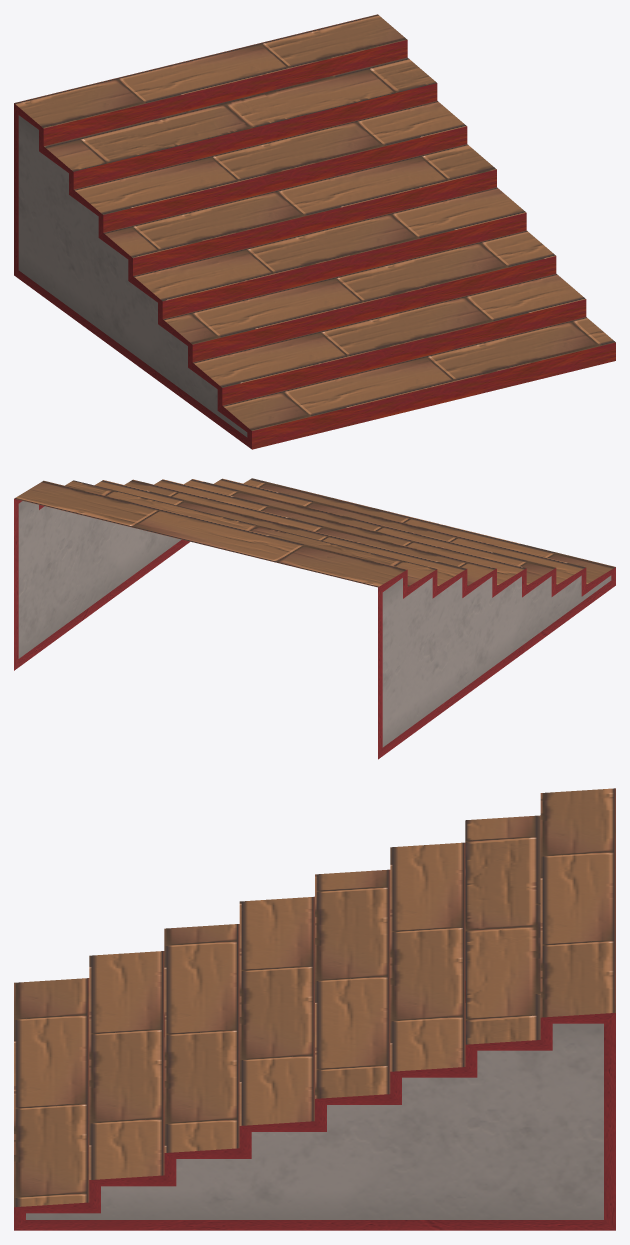
File: EntranceStairs_Art.fbx
The picture shows the model from 3 angles, top to bottom: view 1: azimuth 30°, elevation 25°; view 2: azimuth 150°, elevation 25°; view 3: azimuth 270°, elevation 25°; orthographic projection. The views are drawn at different scales.
Parts seen in each view (by area): view 1: EntranceStairs_Art; view 2: EntranceStairs_Art; view 3: EntranceStairs_Art.
Part boxes in pixels (bbox=[...]): EntranceStairs_Art: bbox=[14, 14, 615, 449]; EntranceStairs_Art: bbox=[14, 478, 615, 759]; EntranceStairs_Art: bbox=[14, 788, 615, 1230].
Bounding box in the file's own units: 4.03 × 1.82 × 4.57.
